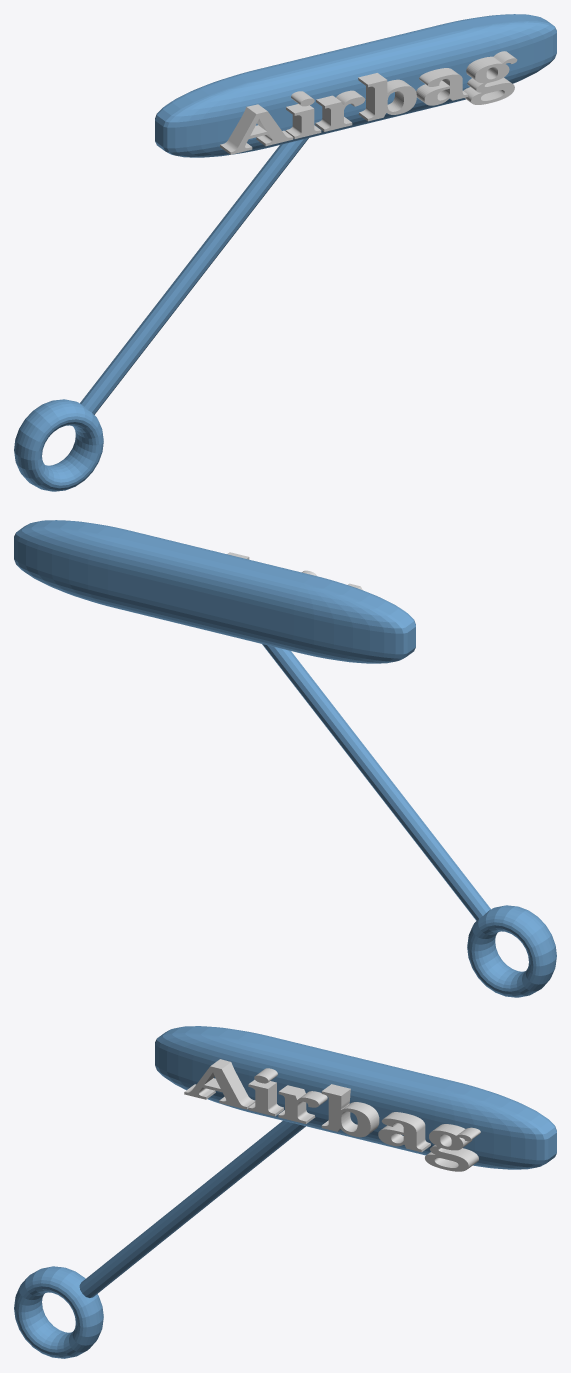
Rendered from airbag.glb.
The picture shows the model from 3 angles, top to bottom: view 1: azimuth 30°, elevation 25°; view 2: azimuth 150°, elevation 25°; view 3: azimuth 330°, elevation 25°; orthographic projection.
Visible parts, largest first — view 1: Mesh_Mesh_head_geo.001_lambert2SG.001; view 2: Mesh_Mesh_head_geo.001_lambert2SG.001; view 3: Mesh_Mesh_head_geo.001_lambert2SG.001.
Part boxes in pixels (left/top/right/bottom): Mesh_Mesh_head_geo.001_lambert2SG.001: left=14, top=14, right=556, bottom=491; Mesh_Mesh_head_geo.001_lambert2SG.001: left=14, top=520, right=556, bottom=997; Mesh_Mesh_head_geo.001_lambert2SG.001: left=14, top=1026, right=556, bottom=1358.
Size of the model in its own units: 32.45 by 21.14 by 3.93.
